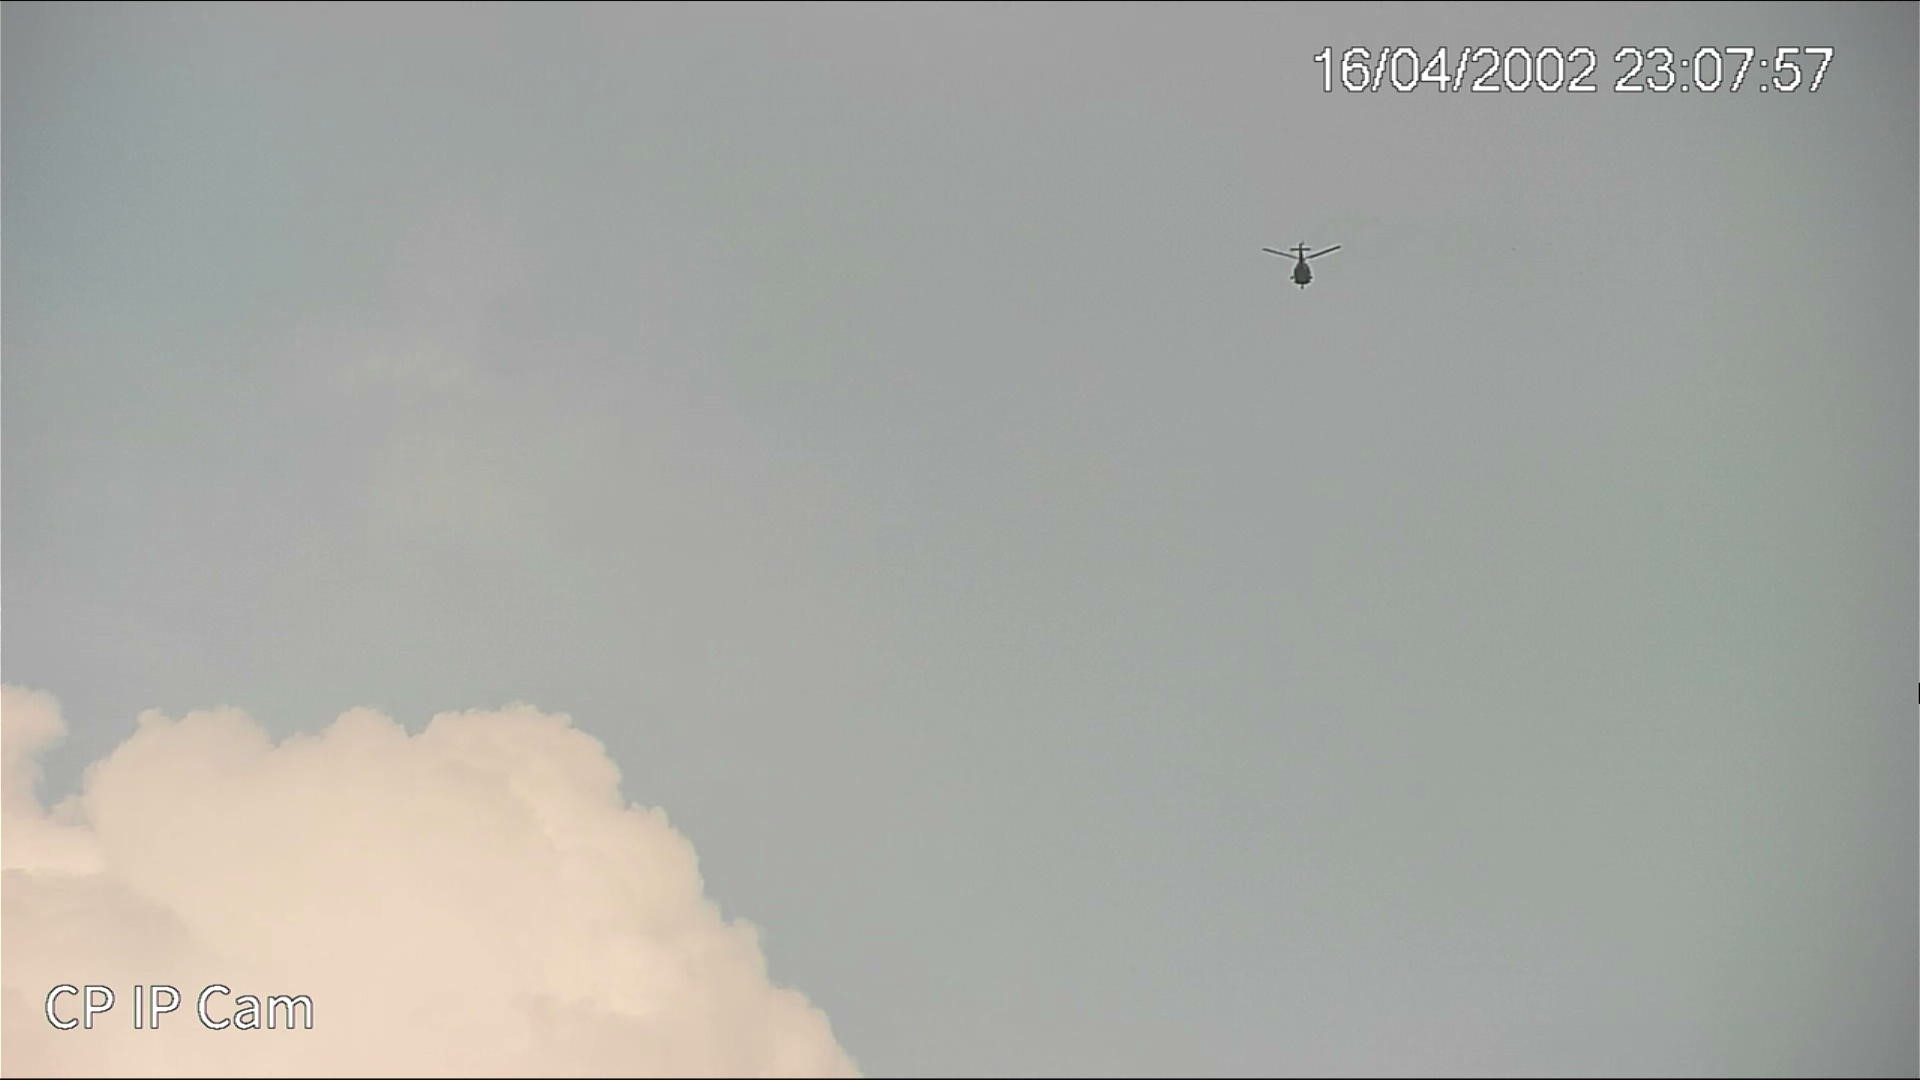SU_30: (1262, 243, 1344, 287)
